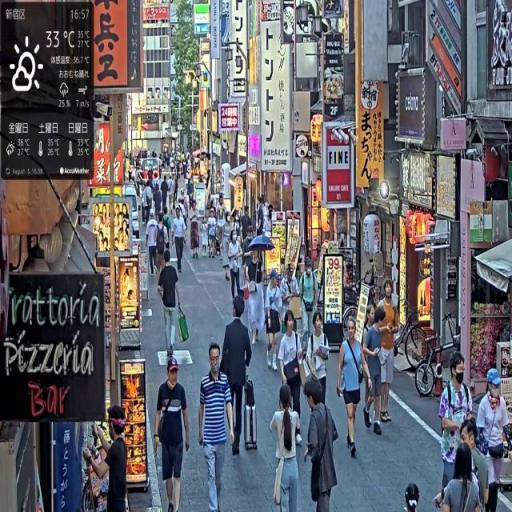person: (199, 339, 236, 512), (437, 353, 476, 510), (153, 354, 191, 512), (220, 299, 256, 460), (84, 405, 132, 512), (304, 375, 341, 512), (477, 366, 511, 512), (338, 318, 369, 460), (270, 384, 303, 512), (278, 308, 307, 442), (434, 438, 485, 512), (376, 280, 400, 424), (361, 310, 386, 438), (159, 251, 187, 357), (306, 309, 331, 406), (245, 247, 267, 346), (265, 271, 284, 376), (279, 265, 301, 337), (155, 214, 170, 286), (173, 204, 188, 273), (146, 212, 160, 280), (190, 202, 201, 260)
